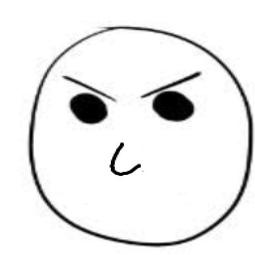eye: (152, 89, 198, 125), (69, 90, 112, 125)
frowning_eyebrow: (139, 66, 203, 100), (59, 73, 117, 104)
nose: (106, 138, 144, 180)
